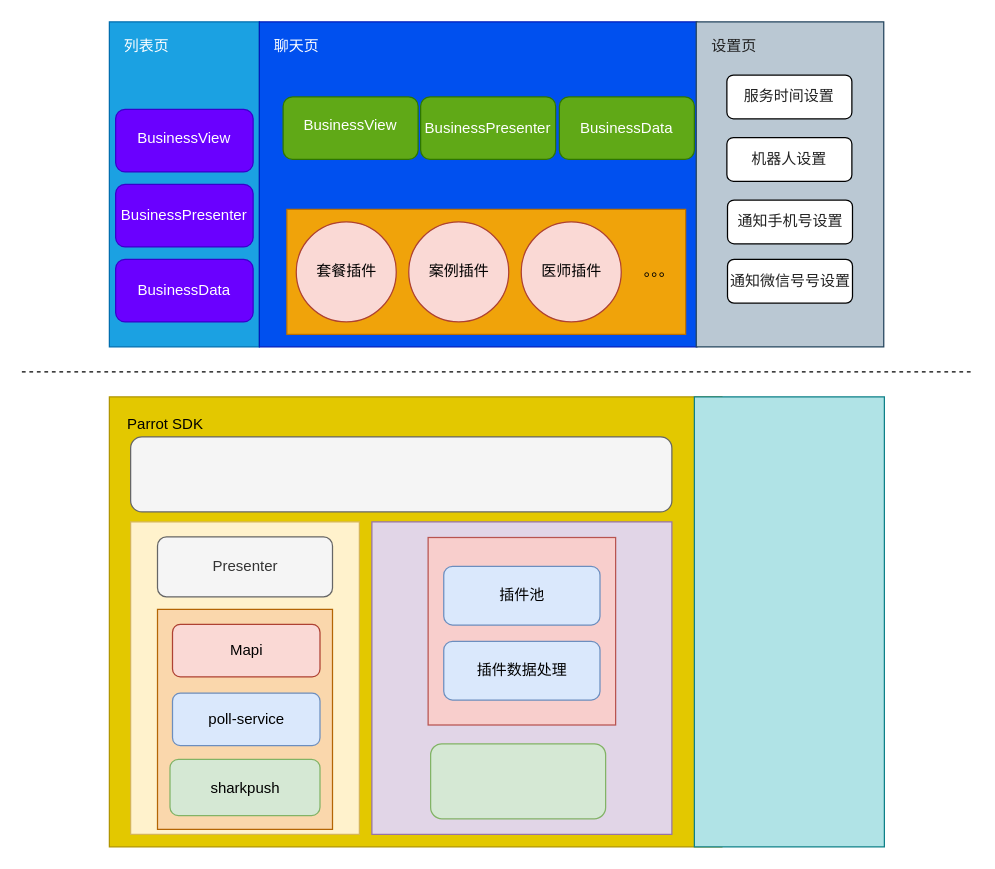
Some shapes in this 995 by 869 pixel diagram are drawn without their labels. Each missing label, with the centre of its shape:
ChatView: point 400,474
picasso: point 788,621
消息队列: point 517,780
